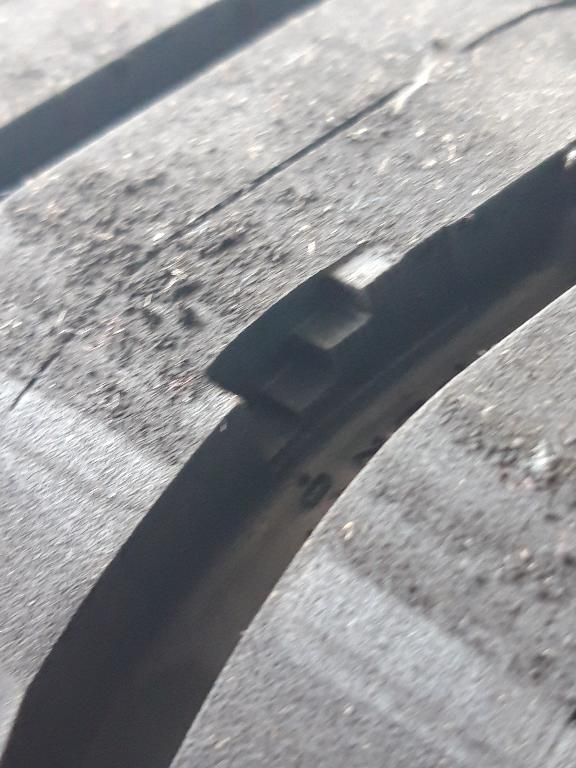temoin:75: (196, 234, 427, 486)
